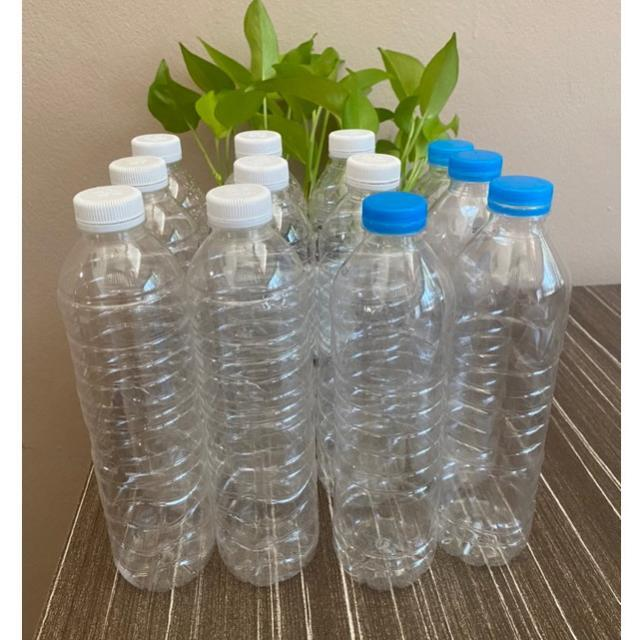PET Bottle: (64, 177, 217, 609), (179, 176, 332, 590), (326, 175, 440, 608), (449, 172, 560, 582), (93, 120, 543, 187)
